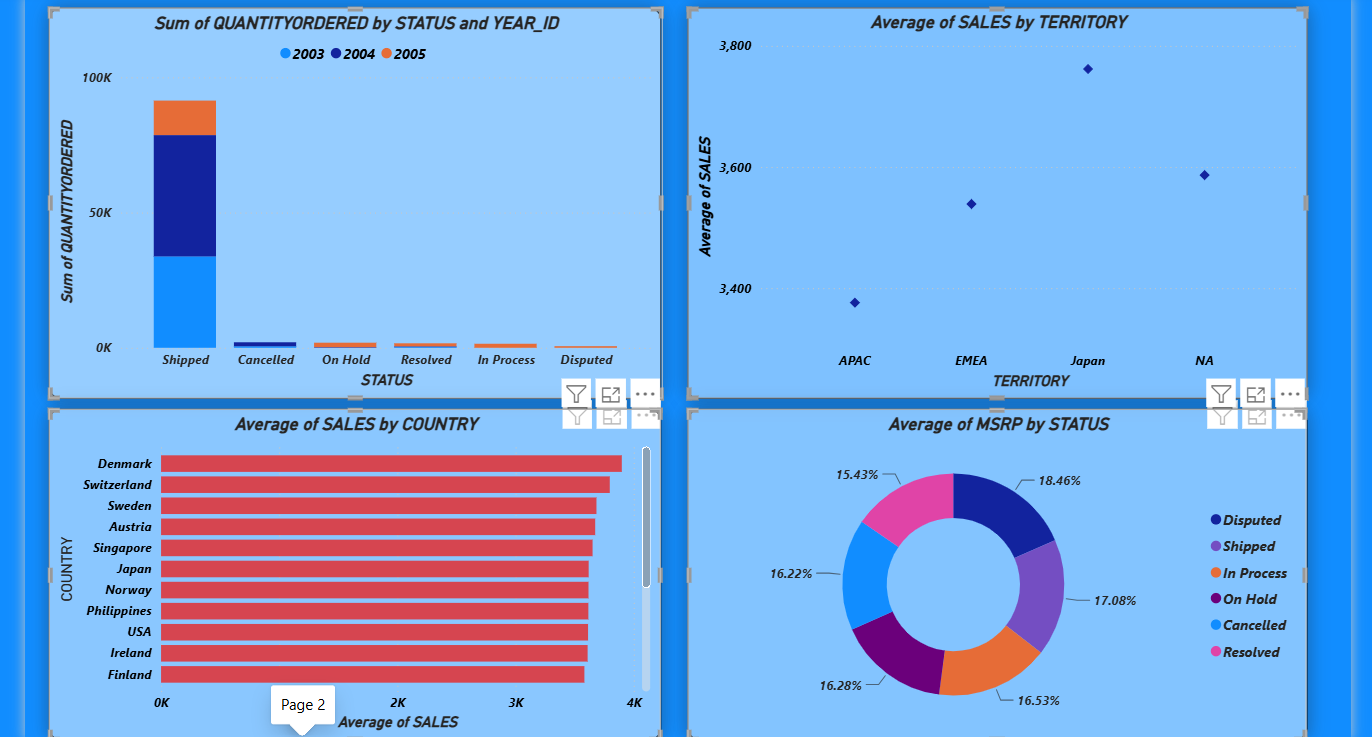

The page's visual inventory and layout, read from the dashboard file:
{"tool":"powerbi","page":{"name":"Page 2","canvas":[1280,720],"ordinal":1},"visuals":[{"type":"lineStackedColumnComboChart","fields":{"Y":["Sum(sales_data_sample.QUANTITYORDERED)"],"Series":["sales_data_sample.YEAR_ID"],"Category":["sales_data_sample.STATUS"]},"box":[23.3,12.3,591.4,377.4],"z":0},{"type":"scatterChart","fields":{"X":["sales_data_sample.TERRITORY"],"Y":["Avg(sales_data_sample.SALES)"]},"box":[639.5,12.3,598.3,377.4],"z":1},{"type":"barChart","fields":{"Category":["sales_data_sample.COUNTRY"],"Y":["Avg(sales_data_sample.SALES)"]},"box":[23,399,591,321],"z":2},{"type":"donutChart","fields":{"Y":["Avg(sales_data_sample.MSRP)"],"Category":["sales_data_sample.STATUS"]},"box":[639,399,598,321],"z":3}]}

Visuals, with their boxes in screenshot pixels (x1, y1, x2, y2):
lineStackedColumnComboChart - Sum(sales_data_sample.QUANTITYORDERED) x sales_data_sample.YEAR_ID: Rect(39, 2, 657, 397)
scatterChart - sales_data_sample.TERRITORY x Avg(sales_data_sample.SALES): Rect(683, 2, 1308, 397)
barChart - sales_data_sample.COUNTRY x Avg(sales_data_sample.SALES): Rect(38, 406, 656, 736)
donutChart - Avg(sales_data_sample.MSRP) x sales_data_sample.STATUS: Rect(682, 406, 1307, 736)
